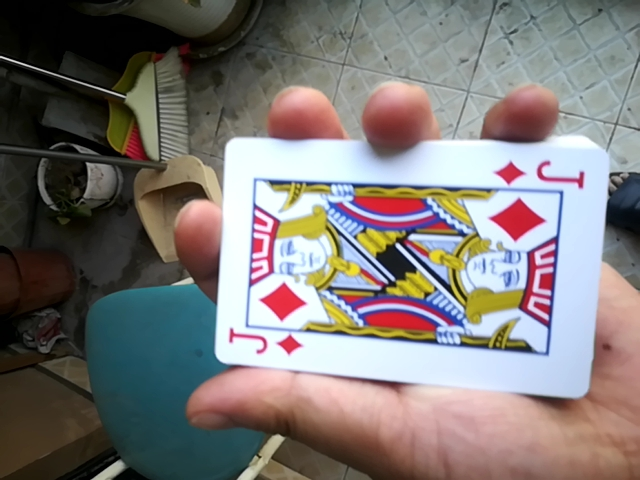fk j: (211, 121, 612, 393)
